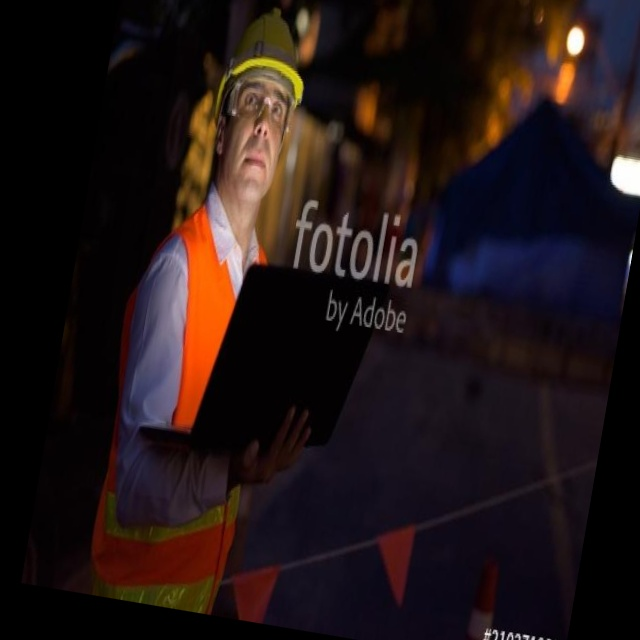Con_Casco: (203, 3, 314, 204)
